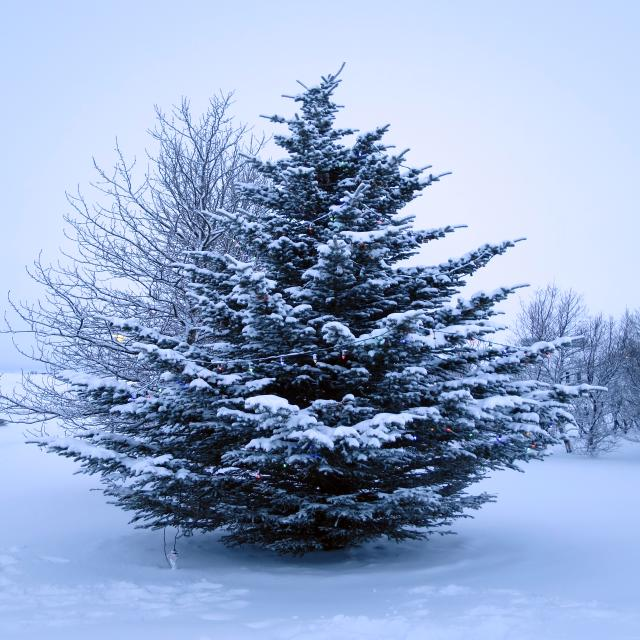Christmas-tree: (126, 38, 525, 556)
